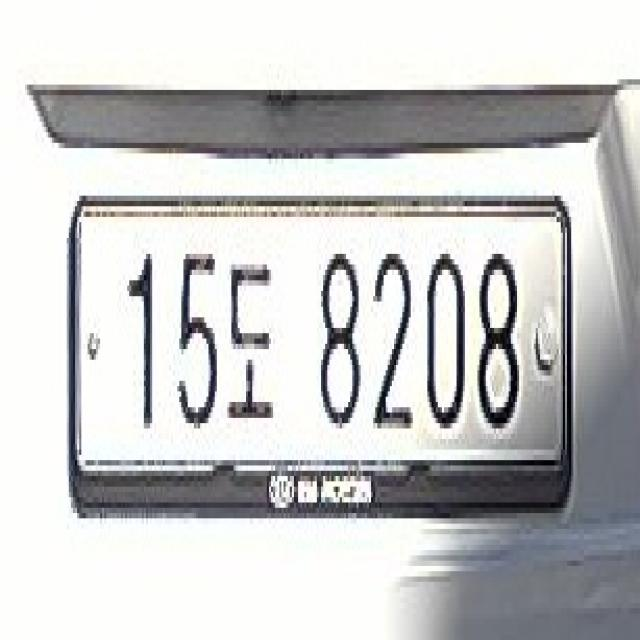0: (421, 238, 469, 439)
1: (125, 243, 169, 434)
2: (365, 238, 419, 439)
5: (171, 233, 223, 444)
8: (471, 238, 523, 439), (317, 232, 365, 433)
do: (223, 238, 279, 439)
license_plate: (67, 180, 577, 524)
